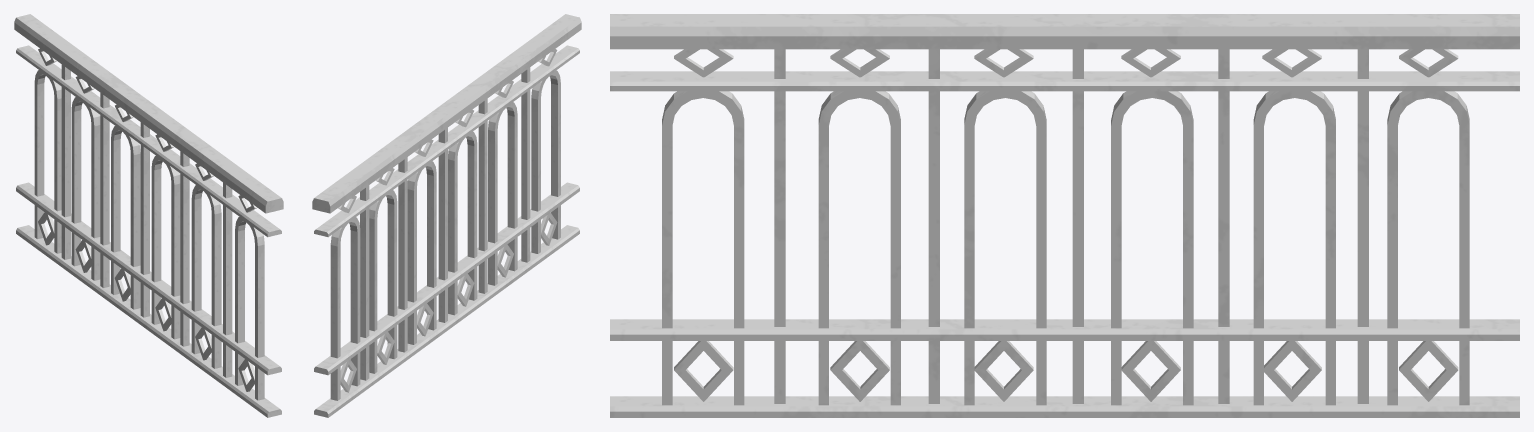
The model's file is StationFrame_E_001.fbx.
3 renders of one model, left to right at view 1: azimuth 30°, elevation 25°; view 2: azimuth 150°, elevation 25°; view 3: azimuth 270°, elevation 25°, orthographic. The views are drawn at different scales.
Parts seen in each view (by area): view 1: StationFrame_E_001; view 2: StationFrame_E_001; view 3: StationFrame_E_001.
Part boxes in pixels (bbox=[...]): StationFrame_E_001: bbox=[14, 14, 283, 417]; StationFrame_E_001: bbox=[312, 14, 581, 417]; StationFrame_E_001: bbox=[610, 14, 1519, 417].
Bounding box in the file's own units: 6.01 × 68.77 × 145.
2 materials, 2 textured.
